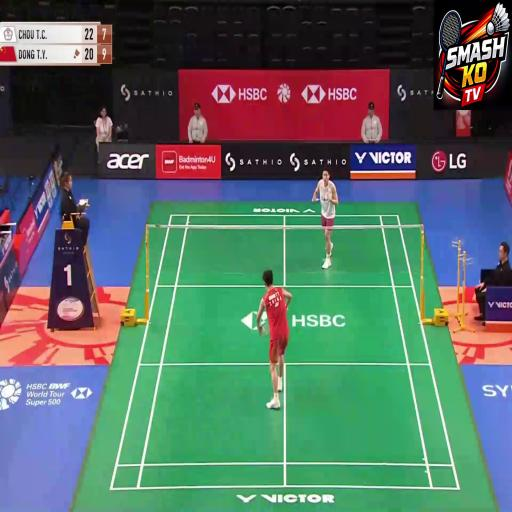player: (252, 256, 299, 428), (300, 160, 351, 282)
